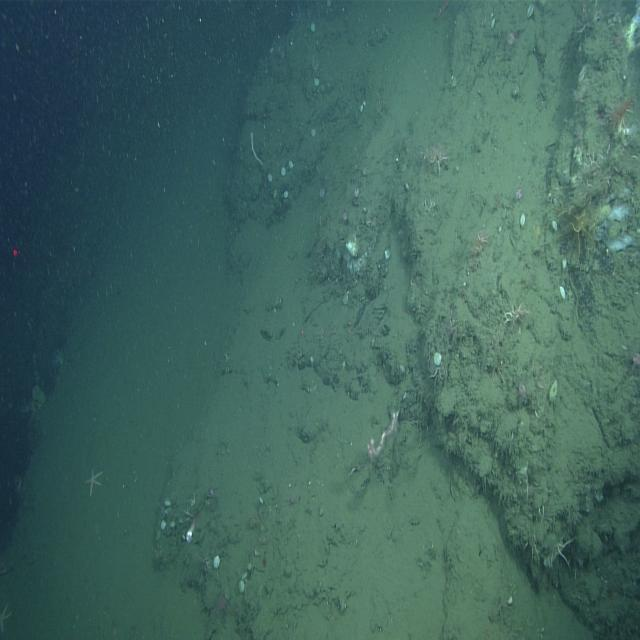Brittle Star: (549, 529, 579, 573)
Not Brittle Star: (560, 201, 599, 267), (364, 404, 401, 465), (82, 463, 104, 499), (501, 25, 521, 57), (430, 1, 452, 26), (0, 598, 14, 636), (514, 376, 531, 406), (49, 345, 67, 373), (214, 590, 232, 618), (31, 381, 47, 411), (628, 344, 640, 375), (512, 182, 526, 206), (350, 182, 362, 203), (339, 207, 350, 226)
